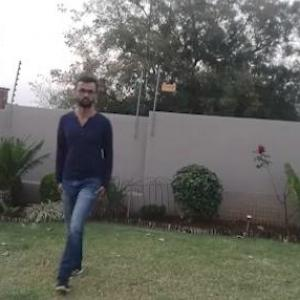follow: (61, 64, 140, 297)
